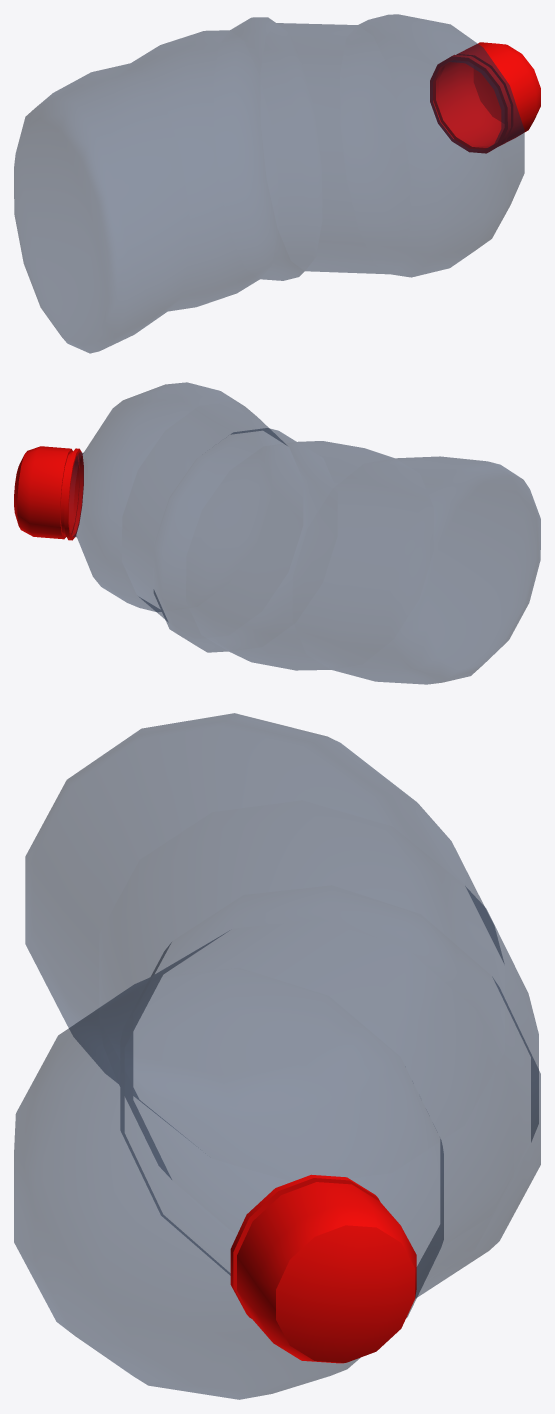
Rendered from SM_MCGarbages_Mesh03.FBX.
3 views of the same model, one above another, from view 1: azimuth 30°, elevation 25°; view 2: azimuth 150°, elevation 25°; view 3: azimuth 270°, elevation 25° (orthographic). The views are drawn at different scales.
Parts seen in each view (by area): view 1: SM_MCGarbages_Mesh03; view 2: SM_MCGarbages_Mesh03; view 3: SM_MCGarbages_Mesh03.
Boxes of the visible parts, <box> form: SM_MCGarbages_Mesh03: <box>14,14,540,353</box>; SM_MCGarbages_Mesh03: <box>14,382,540,684</box>; SM_MCGarbages_Mesh03: <box>14,713,540,1399</box>.
Size of what is drawn, in the model's own units: 27.53 by 14.72 by 12.58.
